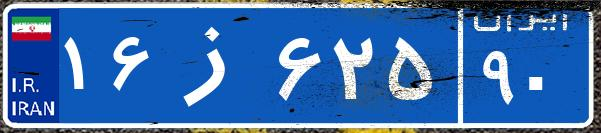0: (525, 38, 570, 115)
1: (57, 26, 110, 107)
2: (330, 28, 385, 110)
5: (385, 28, 445, 110)
6: (273, 28, 330, 110), (110, 28, 158, 105)
9: (475, 38, 525, 113)
ز: (158, 15, 273, 115)
